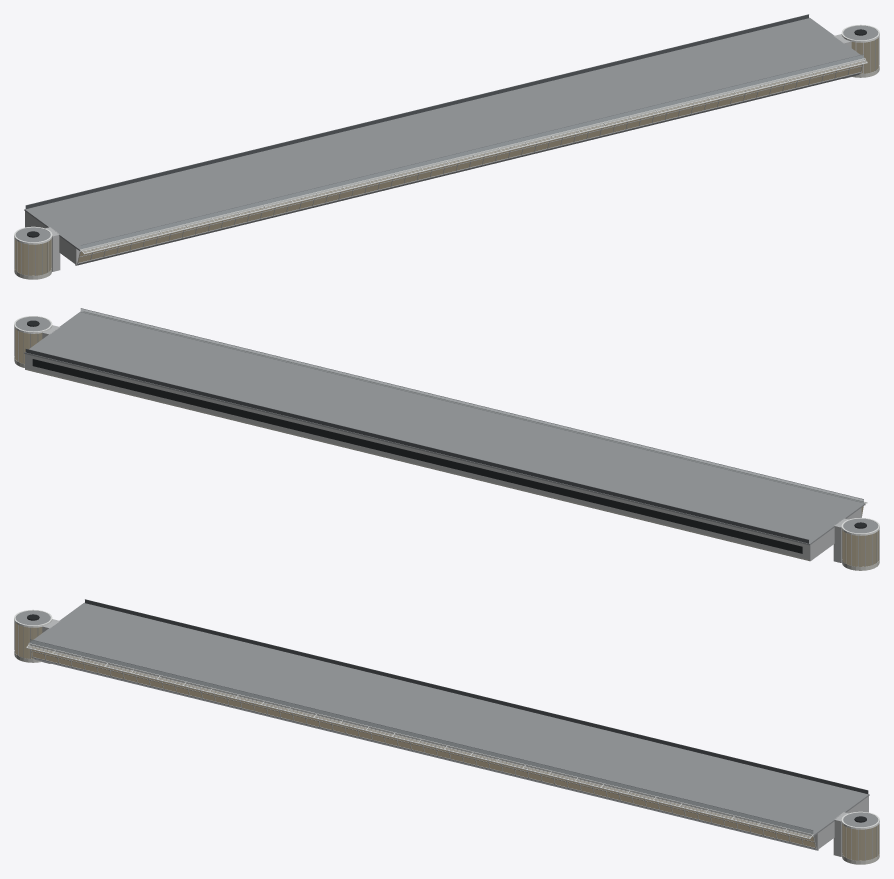
The model's file is mza_pit_upper.glb.
3 views of the same model, one above another, from view 1: azimuth 30°, elevation 25°; view 2: azimuth 150°, elevation 25°; view 3: azimuth 330°, elevation 25° (orthographic).
Visible parts, largest first — view 1: monza-pit-building; view 2: monza-pit-building; view 3: monza-pit-building.
Boxes of the visible parts, box(x1,y1,x2,y2) form: monza-pit-building: box(14, 14, 879, 279); monza-pit-building: box(14, 308, 879, 570); monza-pit-building: box(14, 599, 879, 864).
Size of the model in its own units: 253 by 11.16 by 29.98.
